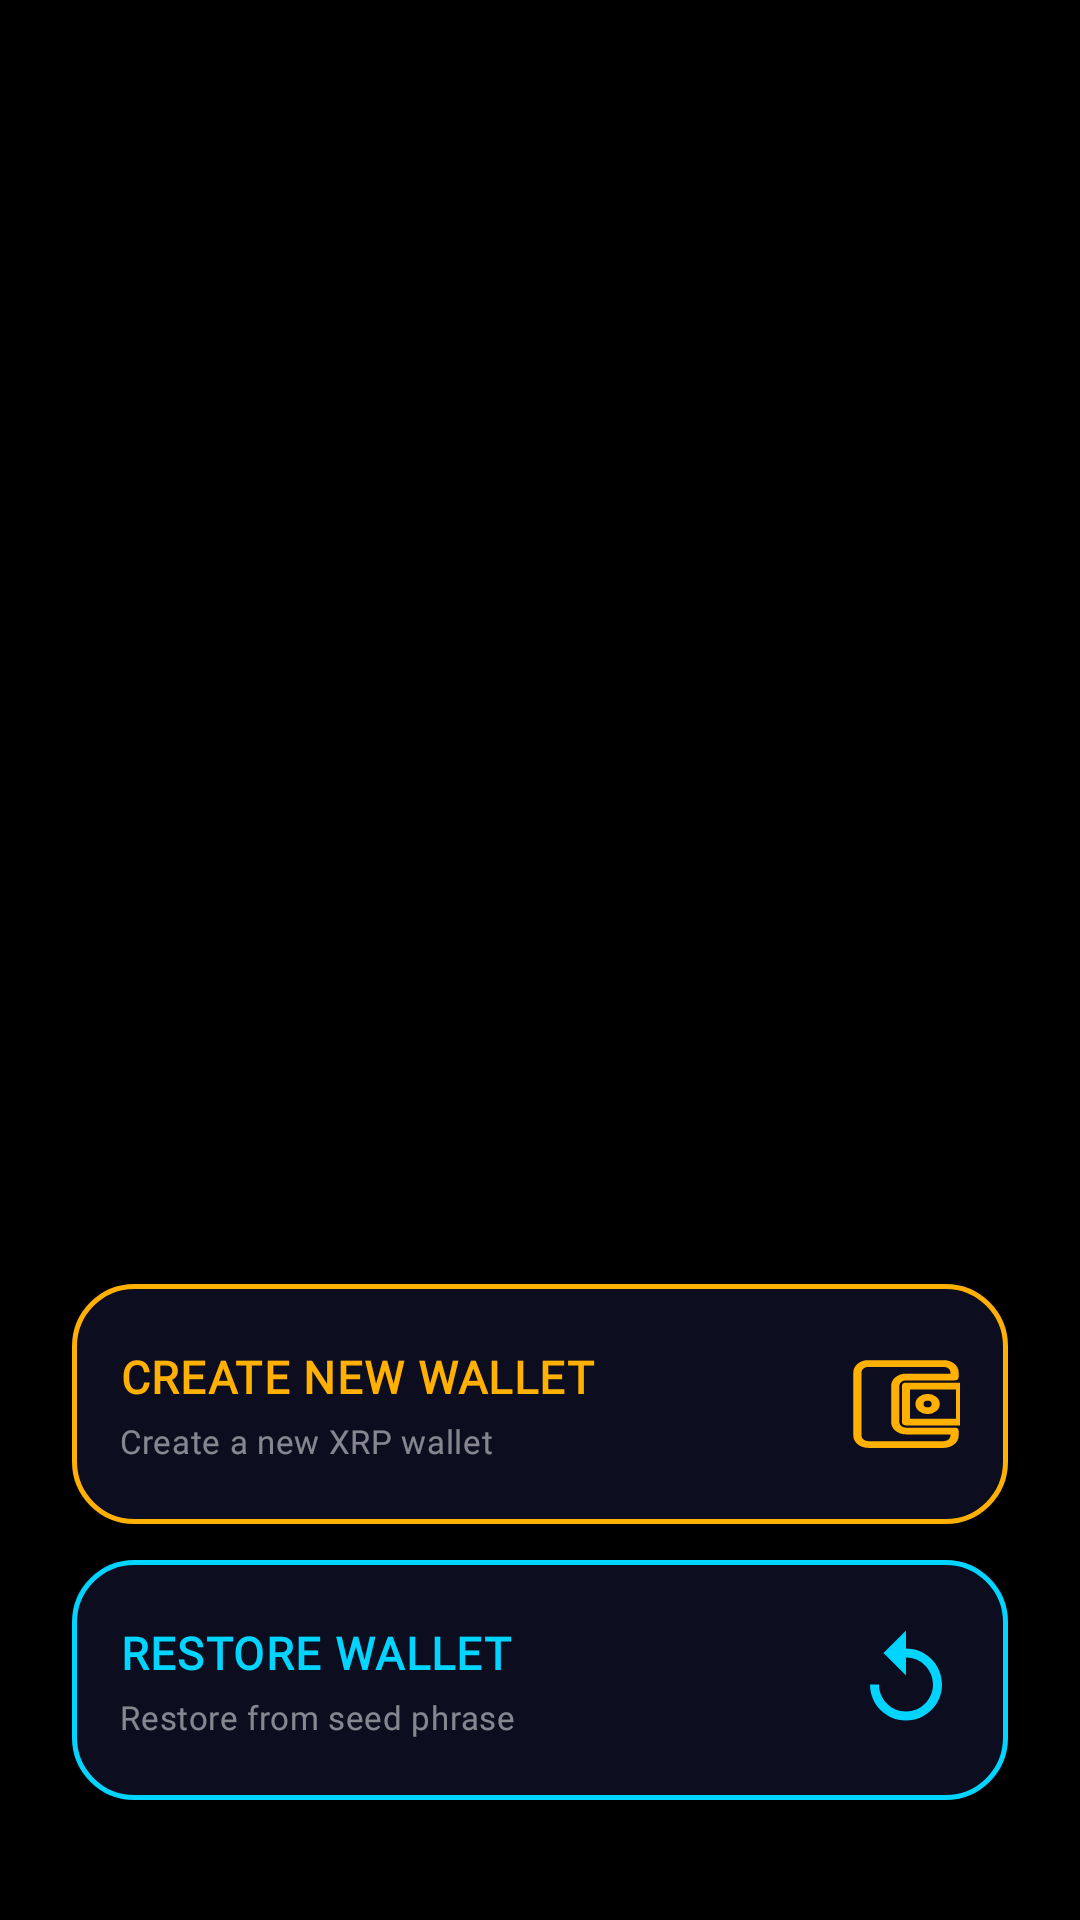

Screen size 1080w x 1920h. Icon name, then its box in pixels as (x1, y1, x2, y2):
clock restore: (870, 1630, 942, 1721)
